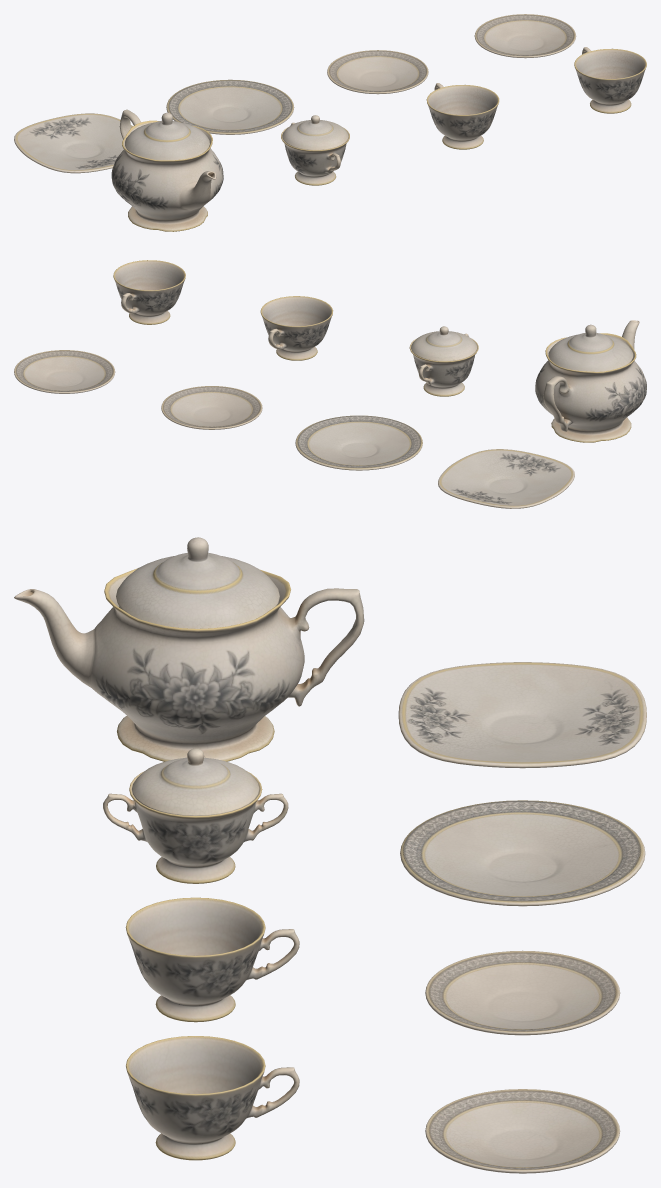
File: tea_set_01_lod0.glb
3 views of the same model, one above another, from view 1: azimuth 30°, elevation 25°; view 2: azimuth 150°, elevation 25°; view 3: azimuth 270°, elevation 25° (orthographic). The views are drawn at different scales.
Visible parts, largest first — view 1: tea_set_01_teapot_01, tea_set_01_plate_large_circular_03, tea_set_01_plate_large_square_01, tea_set_01_cup_small_01, tea_set_01_cup_small_02, tea_set_01_saucer_circular_03, tea_set_01_saucer_circular_04, tea_set_01_teapot_01_lid, tea_set_01_sugar_cup_01, tea_set_01_sugar_cup_01_lid; view 2: tea_set_01_teapot_01, tea_set_01_plate_large_square_01, tea_set_01_plate_large_circular_03, tea_set_01_cup_small_01, tea_set_01_cup_small_02, tea_set_01_saucer_circular_04, tea_set_01_saucer_circular_03, tea_set_01_teapot_01_lid, tea_set_01_sugar_cup_01, tea_set_01_sugar_cup_01_lid; view 3: tea_set_01_teapot_01, tea_set_01_plate_large_square_01, tea_set_01_plate_large_circular_03, tea_set_01_cup_small_01, tea_set_01_cup_small_02, tea_set_01_saucer_circular_03, tea_set_01_saucer_circular_04, tea_set_01_teapot_01_lid, tea_set_01_sugar_cup_01, tea_set_01_sugar_cup_01_lid.
Boxes of the visible parts, x1=… form: tea_set_01_teapot_01: x1=111, y1=109, x2=223, y2=231; tea_set_01_plate_large_circular_03: x1=166, y1=79, x2=294, y2=134; tea_set_01_plate_large_square_01: x1=14, y1=113, x2=133, y2=173; tea_set_01_cup_small_01: x1=426, y1=83, x2=499, y2=149; tea_set_01_cup_small_02: x1=574, y1=47, x2=646, y2=113; tea_set_01_saucer_circular_03: x1=474, y1=14, x2=576, y2=58; tea_set_01_saucer_circular_04: x1=327, y1=50, x2=428, y2=94; tea_set_01_teapot_01_lid: x1=125, y1=112, x2=209, y2=160; tea_set_01_sugar_cup_01: x1=281, y1=122, x2=349, y2=185; tea_set_01_sugar_cup_01_lid: x1=282, y1=115, x2=348, y2=150; tea_set_01_teapot_01: x1=535, y1=320, x2=646, y2=442; tea_set_01_plate_large_square_01: x1=438, y1=449, x2=574, y2=508; tea_set_01_plate_large_circular_03: x1=295, y1=415, x2=422, y2=470; tea_set_01_cup_small_01: x1=260, y1=296, x2=333, y2=360; tea_set_01_cup_small_02: x1=113, y1=260, x2=185, y2=324; tea_set_01_saucer_circular_04: x1=161, y1=386, x2=262, y2=429; tea_set_01_saucer_circular_03: x1=14, y1=350, x2=115, y2=393; tea_set_01_teapot_01_lid: x1=548, y1=324, x2=633, y2=371; tea_set_01_sugar_cup_01: x1=409, y1=333, x2=478, y2=396; tea_set_01_sugar_cup_01_lid: x1=411, y1=326, x2=477, y2=361; tea_set_01_teapot_01: x1=14, y1=568, x2=364, y2=761; tea_set_01_plate_large_square_01: x1=398, y1=662, x2=646, y2=768; tea_set_01_plate_large_circular_03: x1=400, y1=800, x2=645, y2=906; tea_set_01_cup_small_01: x1=125, y1=897, x2=299, y2=1022; tea_set_01_cup_small_02: x1=126, y1=1036, x2=299, y2=1160; tea_set_01_saucer_circular_03: x1=425, y1=1089, x2=620, y2=1173; tea_set_01_saucer_circular_04: x1=425, y1=950, x2=620, y2=1035; tea_set_01_teapot_01_lid: x1=116, y1=537, x2=279, y2=628; tea_set_01_sugar_cup_01: x1=103, y1=771, x2=288, y2=883; tea_set_01_sugar_cup_01_lid: x1=131, y1=748, x2=259, y2=815.
Bounding box in the file's own units: 0.9185 × 0.165 × 0.4839.
1 material, 1 textured.
